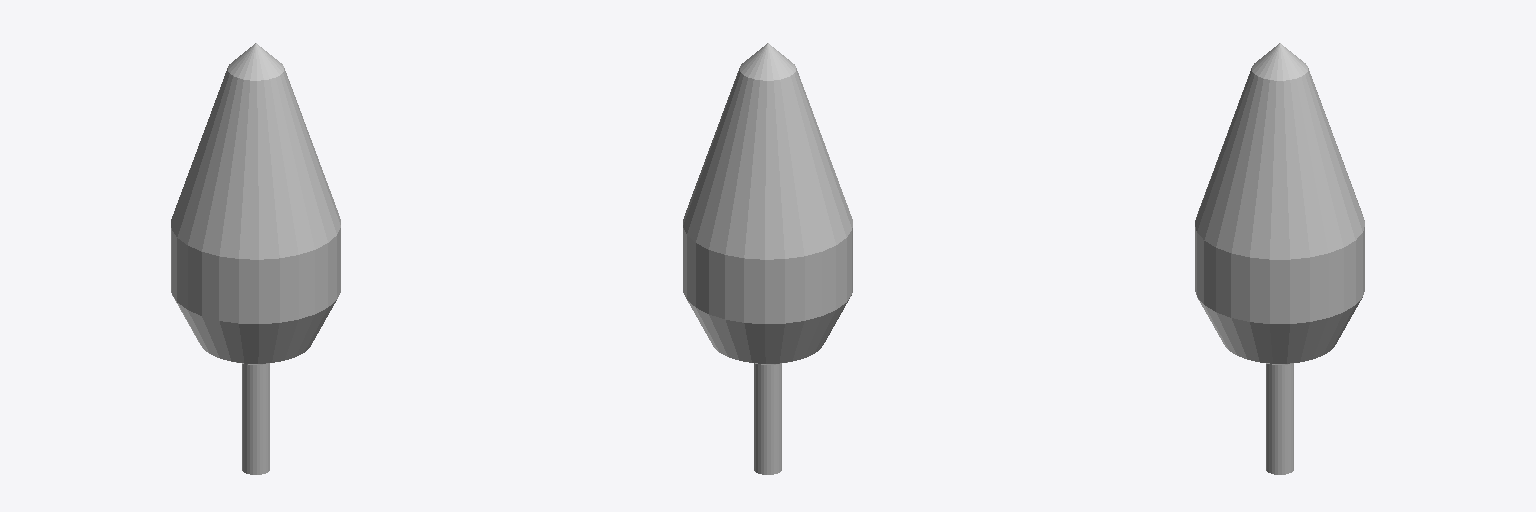
File: Prop_Decorative_Tree_Cedar_3.obj
3 views of the same model, side by side, from view 1: azimuth 30°, elevation 25°; view 2: azimuth 150°, elevation 25°; view 3: azimuth 270°, elevation 25° (orthographic).
Visible parts, largest first — view 1: object2, object1; view 2: object2, object1; view 3: object2, object1.
Boxes of the visible parts, x1,y1,x2,y2 form: object2: [171, 43, 340, 364]; object1: [242, 363, 269, 474]; object2: [683, 43, 852, 364]; object1: [754, 363, 781, 474]; object2: [1195, 43, 1364, 364]; object1: [1266, 364, 1293, 474].
Bounding box in the file's own units: 0.5956 × 1.65 × 0.6.